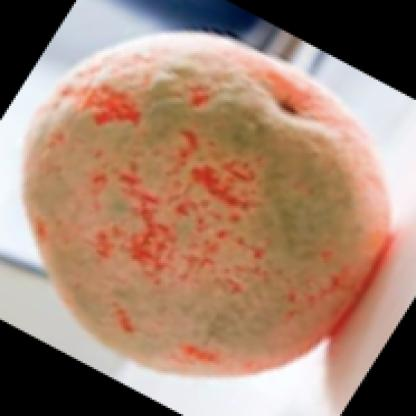rotten: (23, 32, 392, 379)
